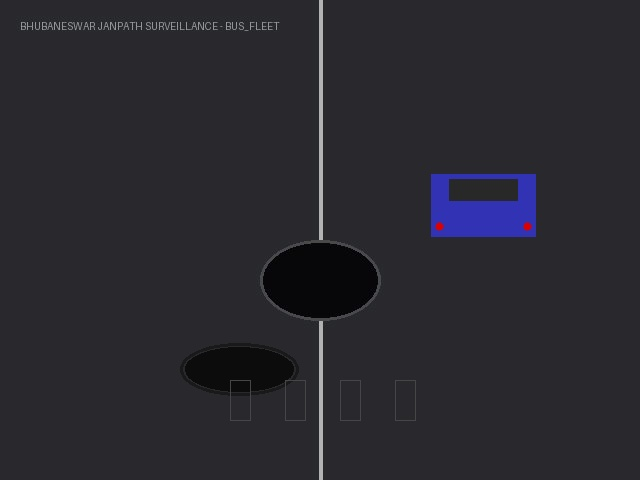no_zebracrossing: (195, 370, 445, 430)
pothole: (185, 347, 293, 391)
vehicle: (431, 173, 535, 236)
